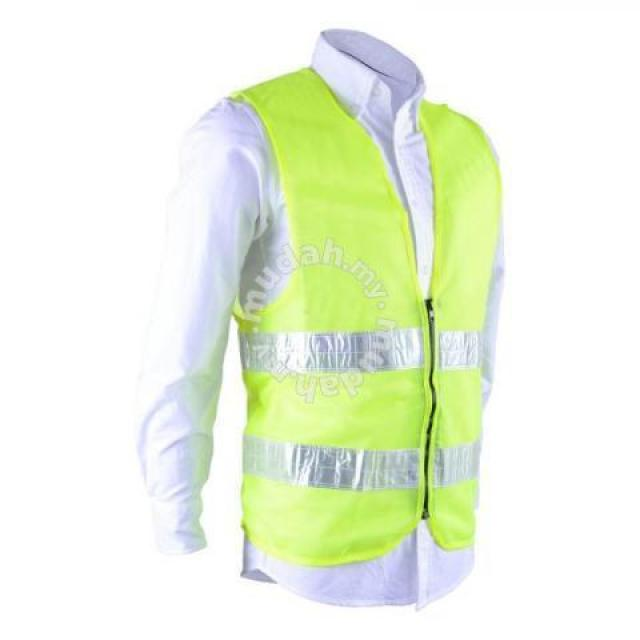Vest: (218, 72, 502, 567)
